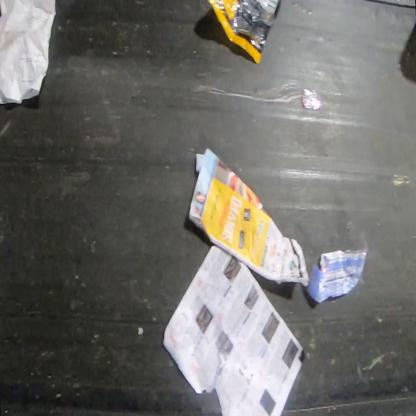cardboard: (187, 146, 310, 287)
soft_plastic: (206, 0, 279, 65), (303, 240, 370, 306)
